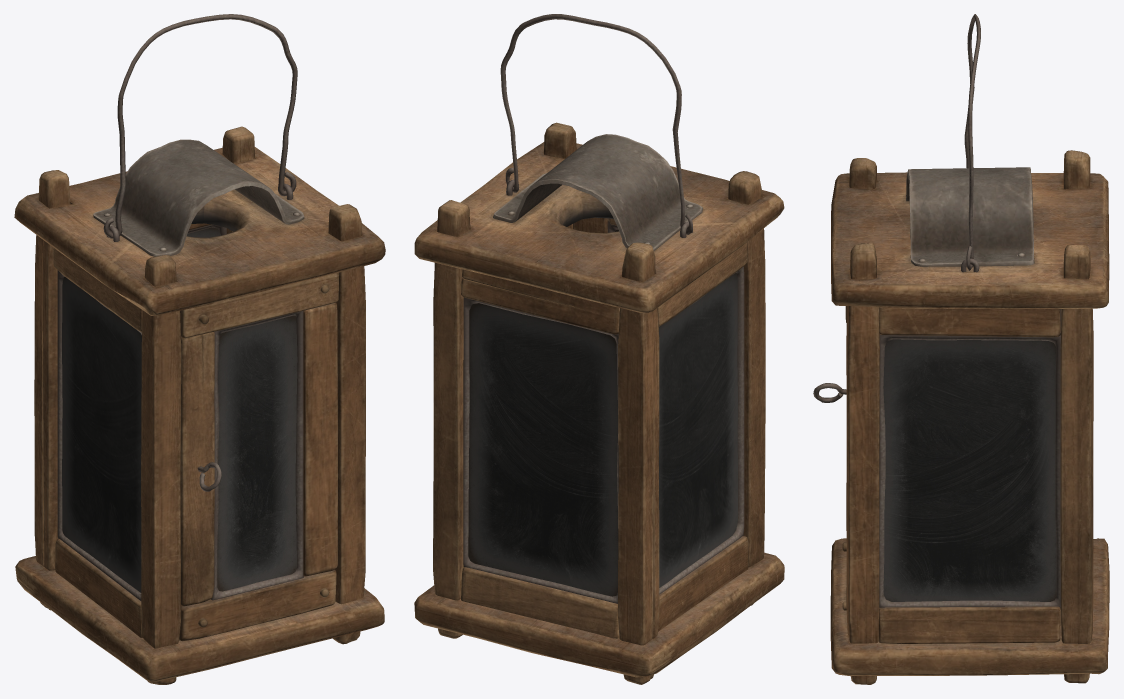
File: wooden_lantern_01.glb
The picture shows the model from 3 angles, left to right: view 1: azimuth 30°, elevation 25°; view 2: azimuth 150°, elevation 25°; view 3: azimuth 270°, elevation 25°; orthographic projection.
Visible parts, largest first — view 1: wooden_lantern_01, wooden_lantern_01_door, wooden_lantern_01_handle; view 2: wooden_lantern_01, wooden_lantern_01_handle, wooden_lantern_01_door; view 3: wooden_lantern_01, wooden_lantern_01_handle, wooden_lantern_01_door.
Part boxes in pixels (bbox=[...]): wooden_lantern_01: bbox=[14, 126, 385, 684]; wooden_lantern_01_door: bbox=[179, 272, 339, 641]; wooden_lantern_01_handle: bbox=[103, 14, 297, 238]; wooden_lantern_01: bbox=[414, 122, 784, 684]; wooden_lantern_01_handle: bbox=[500, 14, 692, 234]; wooden_lantern_01_door: bbox=[573, 217, 618, 233]; wooden_lantern_01: bbox=[830, 150, 1109, 684]; wooden_lantern_01_handle: bbox=[964, 14, 980, 270]; wooden_lantern_01_door: bbox=[813, 306, 847, 610].
Bounding box in the file's own units: 0.221 × 0.5301 × 0.2347.
Materials: 2 (2 with a texture image).
